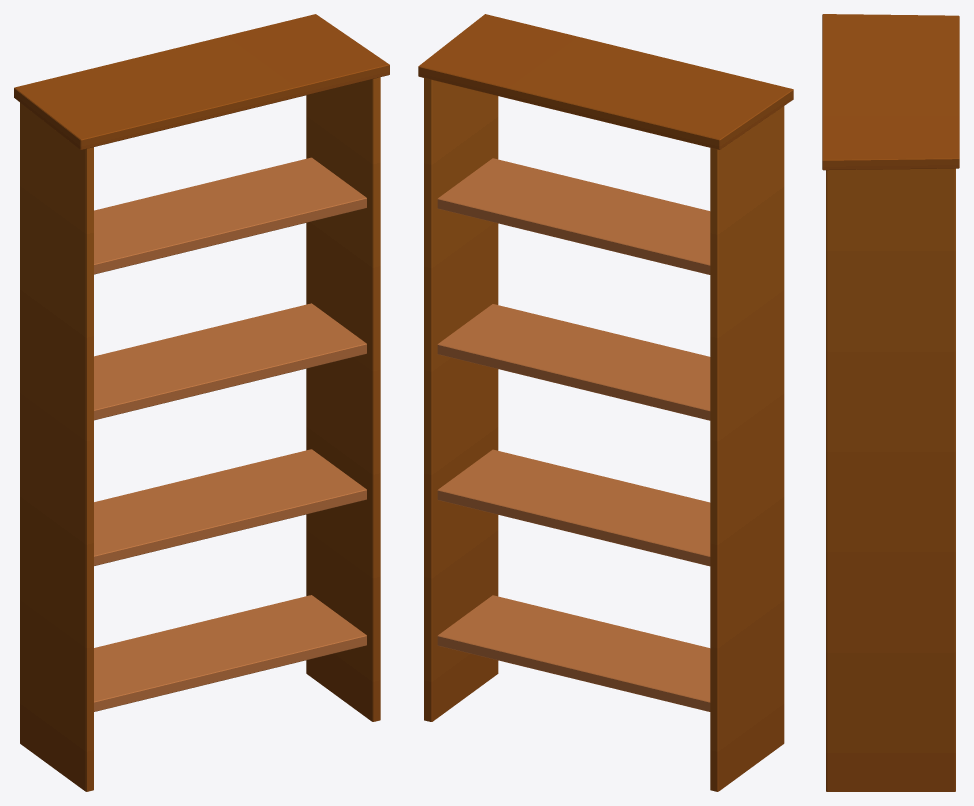
The model's file is Shelf2.glb.
3 renders of one model, left to right at view 1: azimuth 30°, elevation 25°; view 2: azimuth 150°, elevation 25°; view 3: azimuth 270°, elevation 25°, orthographic. The views are drawn at different scales.
Visible parts, largest first — view 1: Shelf2; view 2: Shelf2; view 3: Shelf2.
Part boxes in pixels (left/top/right/bottom): Shelf2: left=14, top=14, right=389, bottom=791; Shelf2: left=418, top=14, right=793, bottom=791; Shelf2: left=822, top=14, right=959, bottom=791.
Bounding box in the file's own units: 0.9329 × 1.89 × 0.369.
1 material, 1 textured.
